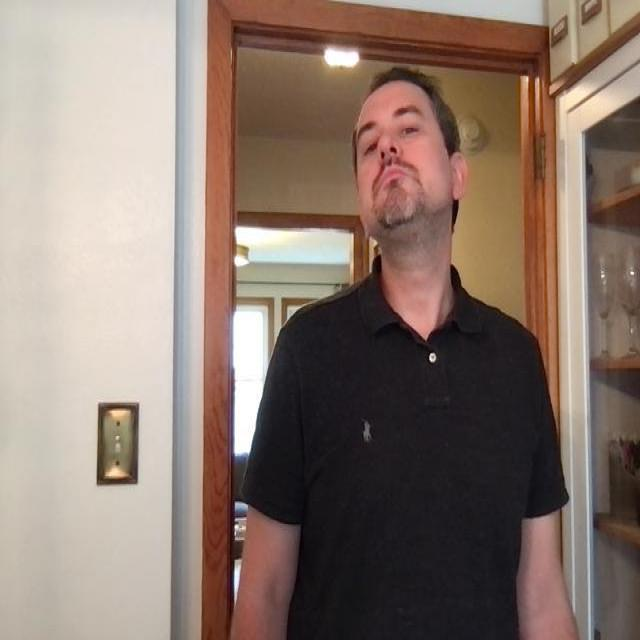face: (351, 68, 463, 237)
